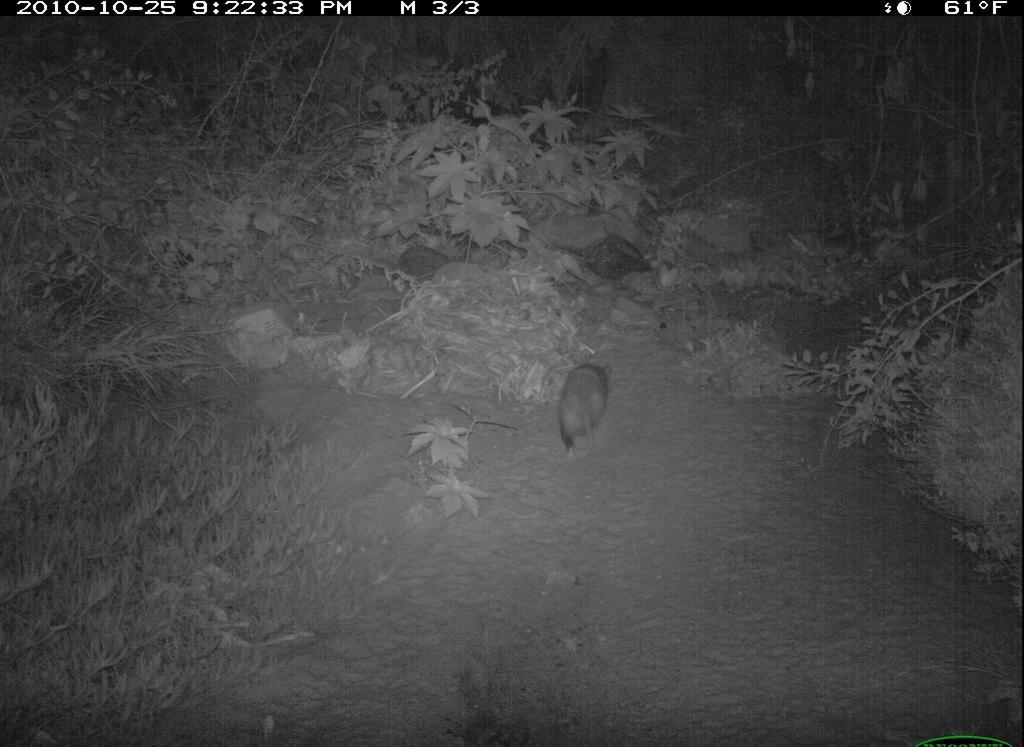opossum: (555, 351, 617, 466)
